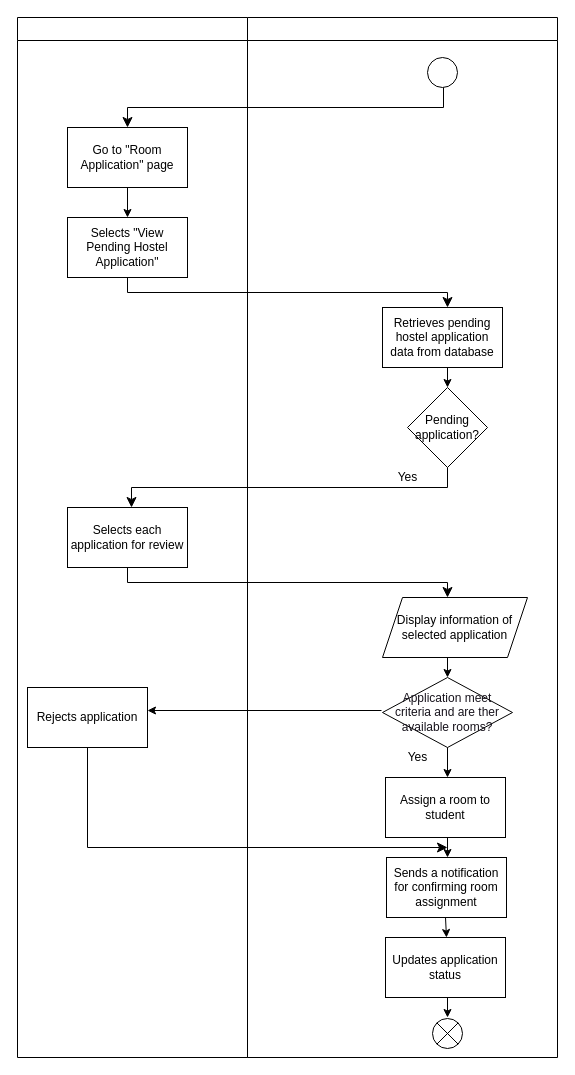
The diagram is 575 pixels wide and 1075 high, and some of its shapes have lost their labels. Here are the shapes that lost their labels. From the top down, the centre of each, then its label:
point 132,537: Administrator
point 402,537: System
